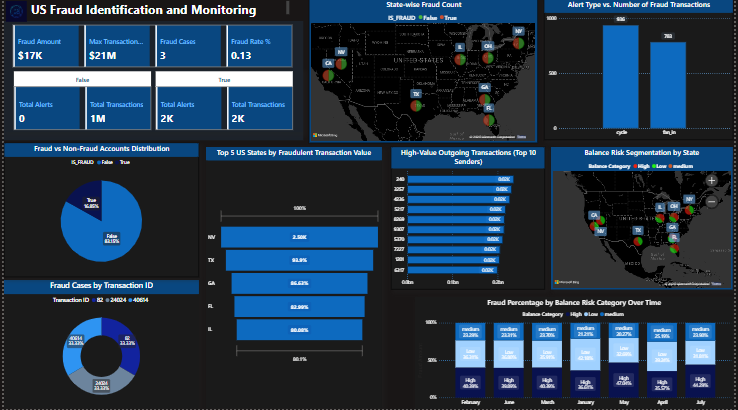

This screenshot's page, from the dashboard's own definition file:
{"tool":"powerbi","page":{"name":"Page 2","canvas":[1920,1080],"ordinal":0},"visuals":[{"type":"textbox","box":[65,0,690,65],"z":0},{"type":"shape","box":[0,57.1,787.5,314.3],"z":1000},{"type":"cardVisual","fields":{"Data":["transactions.Fraud Amount","transactions.Max Transaction Amount","transactions.Fraud Cases","transactions.Fraud Rate %"]},"box":[18.3,63.3,748.3,121.7],"z":2000},{"type":"cardVisual","title":"f","fields":{"Data":["alerts.Total Alerts","transactions.Total Transactions"],"Rows":["transactions.IS_FRAUD"]},"box":[0,185,786.7,166.7],"z":3000},{"type":"map","title":"State-wise Fraud Count ","fields":{"Category":["accounts.StateCode"],"Series":["transactions.IS_FRAUD"],"Size":["Count(accounts.Balance Category)"]},"box":[802.4,0,602.4,378.6],"z":4000},{"type":"donutChart","title":"Fraud Cases by Transaction ID","fields":{"Category":["transactions.Transaction_ID"],"Y":["transactions.Fraud Cases"]},"box":[0,740,512.5,337.5],"z":5000},{"type":"clusteredBarChart","title":"High-Value Outgoing Transactions (Top 10 Senders)","fields":{"Category":["transactions.SENDER_ACCOUNT_ID"],"Y":["Sum(transactions.TX_AMOUNT)"]},"box":[1017.5,390,405,375],"z":6000},{"type":"pieChart","title":"Fraud vs Non-Fraud Accounts Distribution","fields":{"Category":["accounts.IS_FRAUD"],"Y":["CountNonNull(accounts.CUSTOMER_ID)"]},"box":[0,380,512.5,352.5],"z":7000},{"type":"clusteredColumnChart","title":"Alert Type vs. Number of Fraud Transactions","fields":{"Category":["alerts.ALERT_TYPE"],"Y":["transactions.Fraud Transaction Count"]},"box":[1421.4,0,497.6,371.4],"z":8000},{"type":"funnel","title":"Top 5 US States by Fraudulent Transaction Value","fields":{"Category":["accounts.StateCode"],"Y":["transactions.Fraud Amount"]},"box":[532.5,390,462.5,687.5],"z":9000},{"type":"hundredPercentStackedColumnChart","title":"Fraud Percentage by Balance Risk Category Over Time","fields":{"Y":["transactions.Fraud Amount"],"Series":["accounts.Balance Category"],"Category":["alerts.Month"]},"box":[1082.4,784.7,837.6,295.3],"z":10000},{"type":"image","box":[0,0,65,65],"z":11000},{"type":"map","title":"Balance Risk Segmentation by State","fields":{"Category":["accounts.StateCode"],"Size":["CountNonNull(accounts.Balance Category)"],"Series":["accounts.Balance Category"]},"box":[1440,390,477.5,375],"z":12000}]}

Visuals, with their boxes in screenshot pixels (x1, y1, x2, y2), scaled from the page's 1920x1080 canvas onto the 738x410 screenshot:
textbox: <box>25,0,290,25</box>
shape: <box>0,22,303,141</box>
cardVisual - transactions.Fraud Amount x transactions.Max Transaction Amount: <box>7,24,295,70</box>
"f" cardVisual: <box>0,70,302,134</box>
"State-wise Fraud Count " map: <box>308,0,540,144</box>
"Fraud Cases by Transaction ID" donutChart: <box>0,281,197,409</box>
"High-Value Outgoing Transactions (Top 10 Senders)" clusteredBarChart: <box>391,148,547,290</box>
"Fraud vs Non-Fraud Accounts Distribution" pieChart: <box>0,144,197,278</box>
"Alert Type vs. Number of Fraud Transactions" clusteredColumnChart: <box>546,0,737,141</box>
"Top 5 US States by Fraudulent Transaction Value" funnel: <box>205,148,382,409</box>
"Fraud Percentage by Balance Risk Category Over Time" hundredPercentStackedColumnChart: <box>416,298,737,409</box>
image: <box>0,0,25,25</box>
"Balance Risk Segmentation by State" map: <box>554,148,737,290</box>
